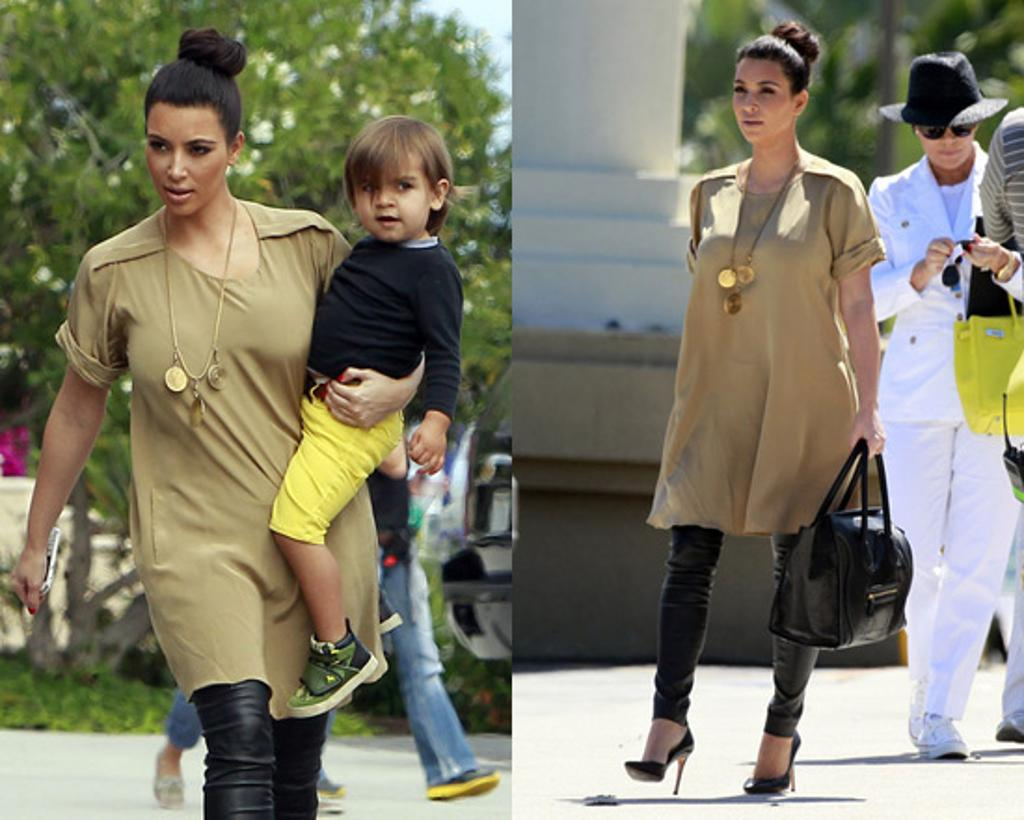face: (146, 100, 234, 214), (352, 148, 432, 240), (732, 54, 790, 144), (918, 102, 976, 170)
